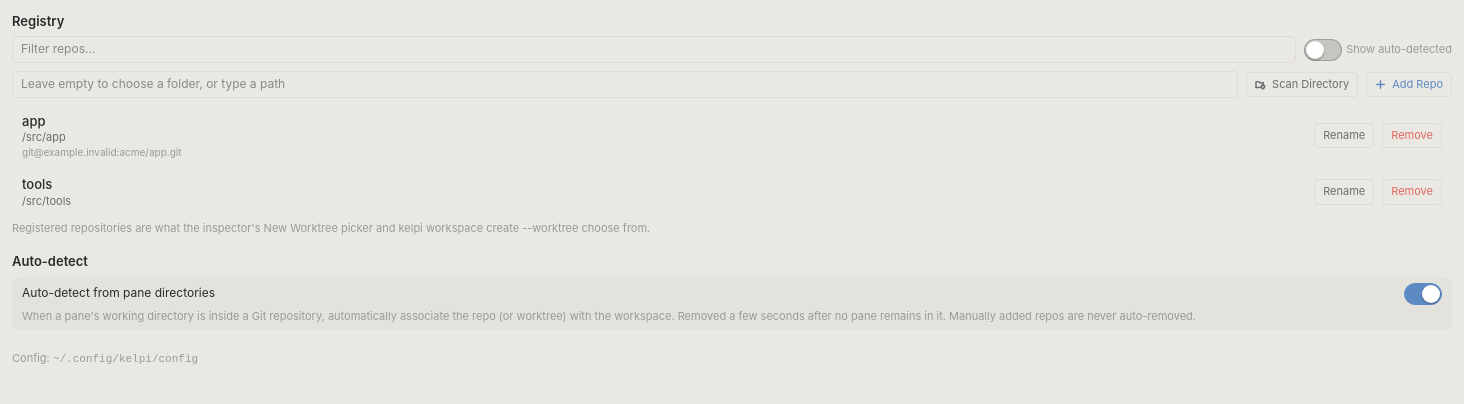
Test: the folder chooser behind Scan Directory and Add Repo (#283) › Add Repo on an empty field asks for a folder and adds the one chosen
Click the button with test id "repo-add" at (1409,84), box [1366,72,1452,97]
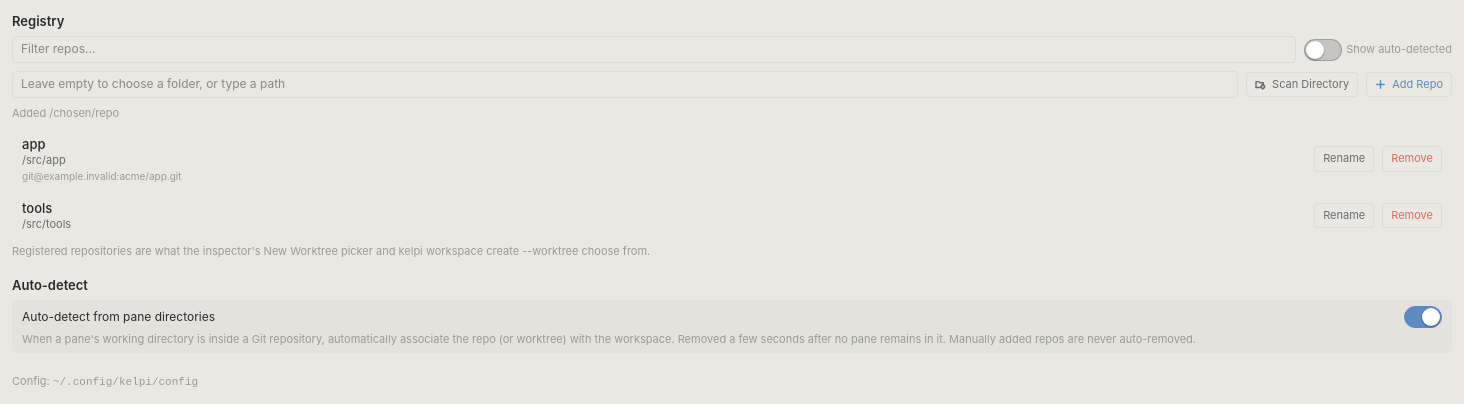
Expected: the field with test id "repo-path" is empty, [12,71,1238,98]
Now the text with test id "repo-notice" reads "Added /chosen/repo", box [12,106,119,120]
